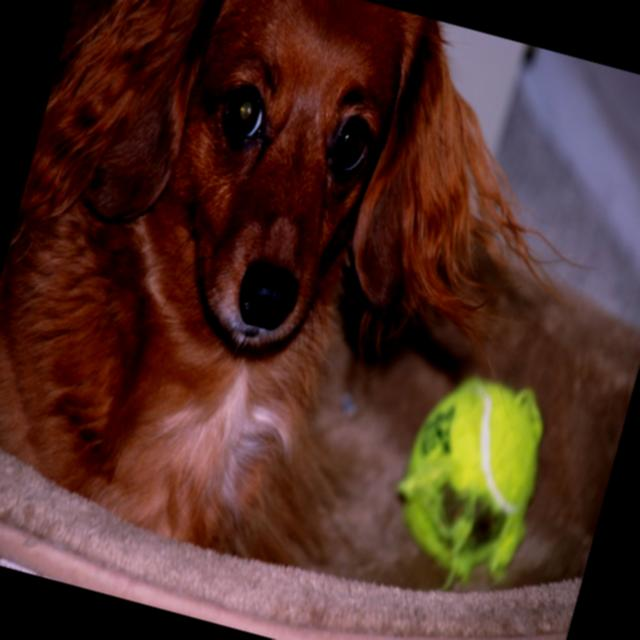Tennis ball: (374, 360, 560, 606)
